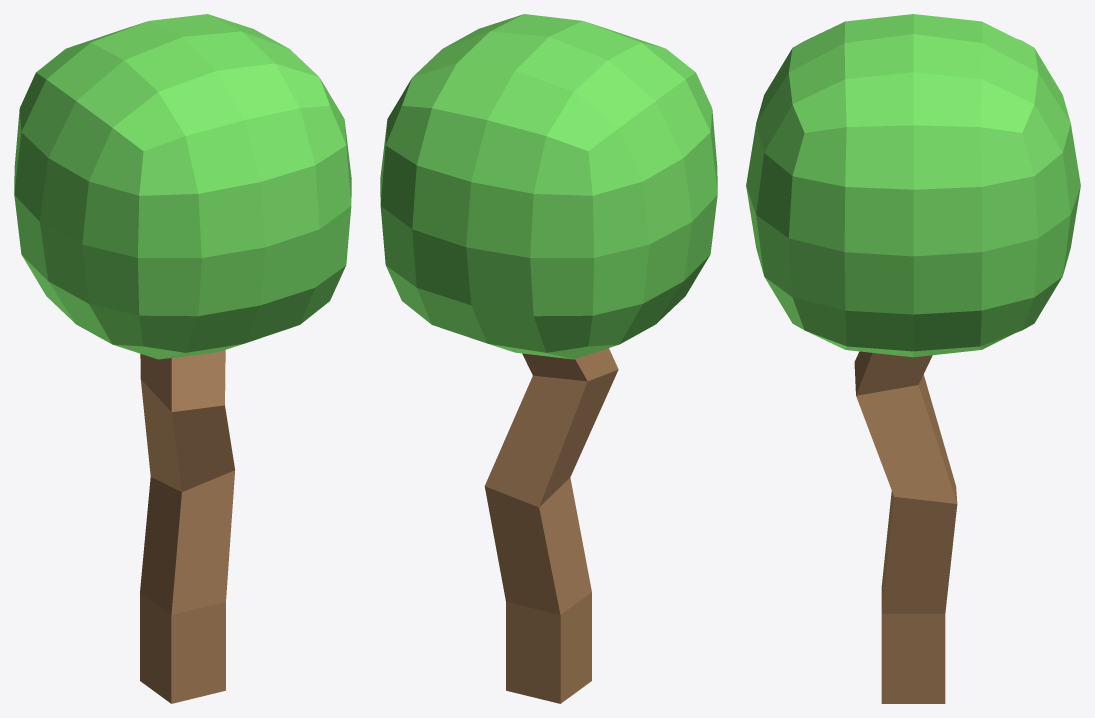
File: PlantSmall.fbx
3 renders of one model, left to right at view 1: azimuth 30°, elevation 25°; view 2: azimuth 150°, elevation 25°; view 3: azimuth 270°, elevation 25°, orthographic.
Visible parts, largest first — view 1: PlantSmall; view 2: PlantSmall; view 3: PlantSmall.
Boxes of the visible parts, x1,y1,x2,y2 form: PlantSmall: (14,14,351,703); PlantSmall: (380,14,717,703); PlantSmall: (746,14,1080,703).
Size of the model in its own units: 26 by 56.26 by 26.
